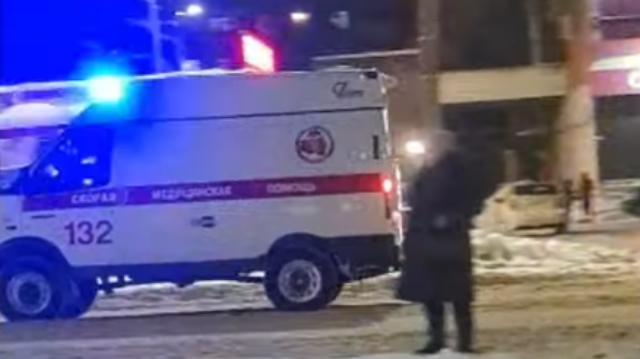ambulance: (2, 64, 405, 322)
non emergency car: (495, 183, 570, 238)
